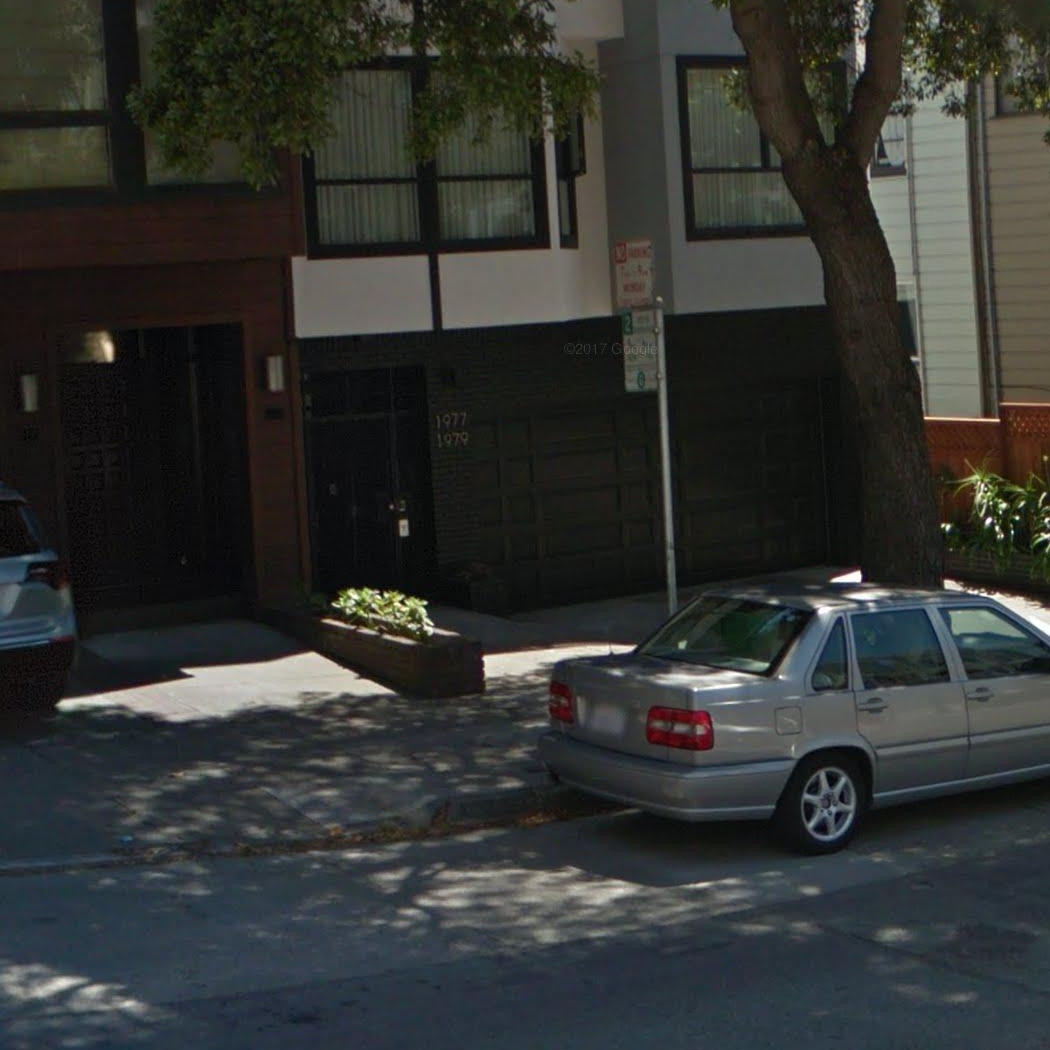2 Hour Parking: (621, 308, 661, 393)
No Parking: (612, 237, 655, 308)
